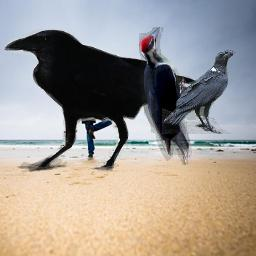Crow: (3, 29, 220, 174), (162, 49, 236, 134)
Woodpecker: (139, 27, 203, 165)
